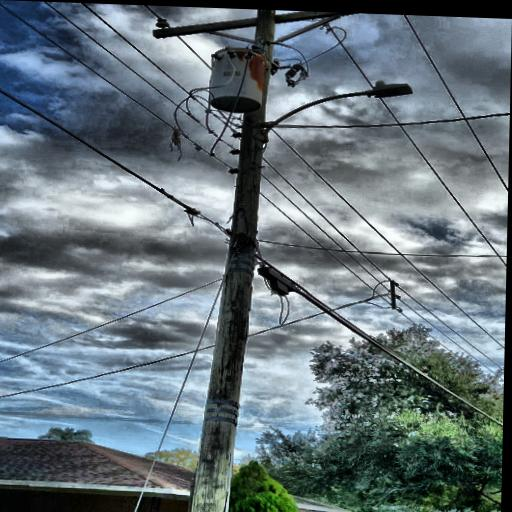pole: (160, 6, 399, 512)
street light: (259, 74, 419, 146)
transformer: (206, 45, 271, 115)
